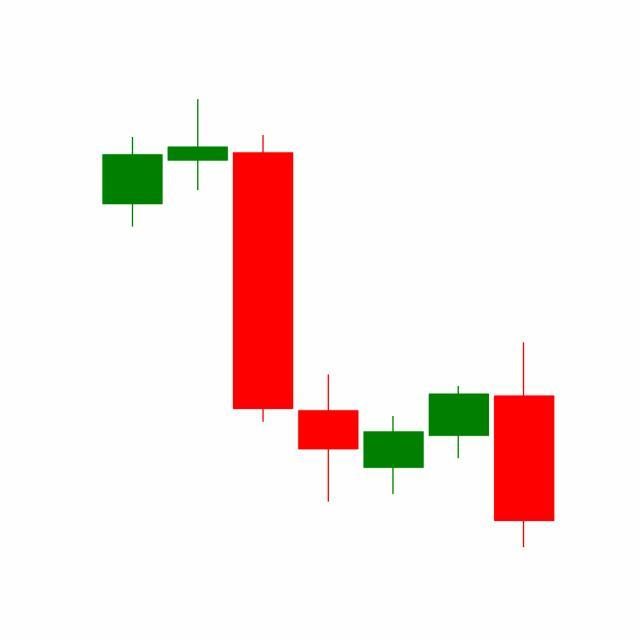Hikkake Pattern: (165, 99, 492, 508)
